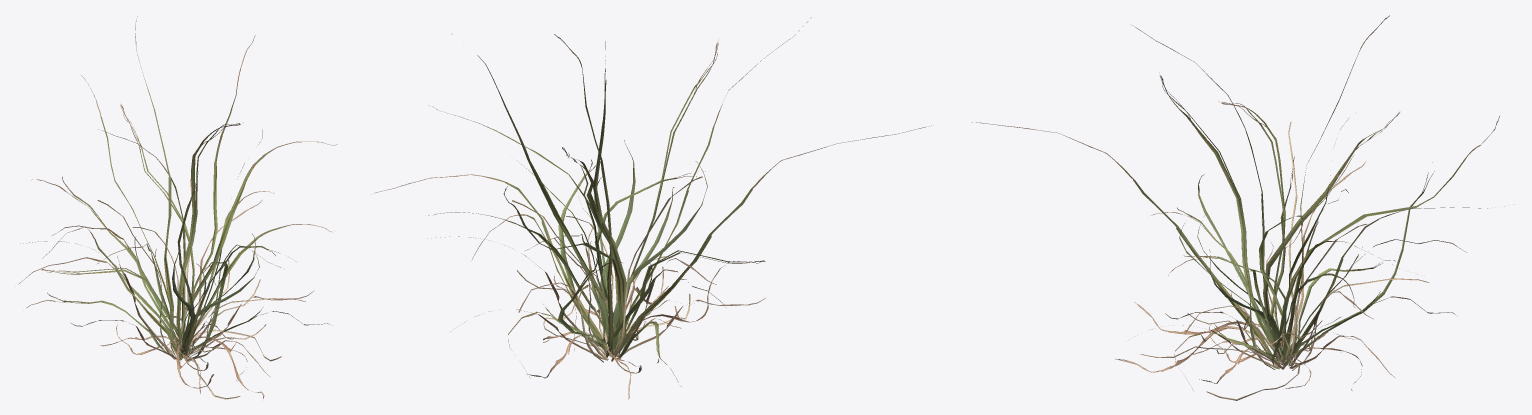
The model's file is grass_medium_02_d.gltf.
The picture shows the model from 3 angles, left to right: view 1: azimuth 30°, elevation 25°; view 2: azimuth 150°, elevation 25°; view 3: azimuth 270°, elevation 25°; orthographic projection. The views are drawn at different scales.
Visible parts, largest first — view 1: grass_medium_02_d__x; view 2: grass_medium_02_d__x; view 3: grass_medium_02_d__x.
Boxes of the visible parts, x1=… form: grass_medium_02_d__x: x1=18, y1=16, x2=337, y2=399; grass_medium_02_d__x: x1=371, y1=17, x2=931, y2=399; grass_medium_02_d__x: x1=972, y1=15, x2=1504, y2=400.
Bounding box in the file's own units: 0.3174 × 0.2604 × 0.3619.
Materials: 1 (1 with a texture image).
